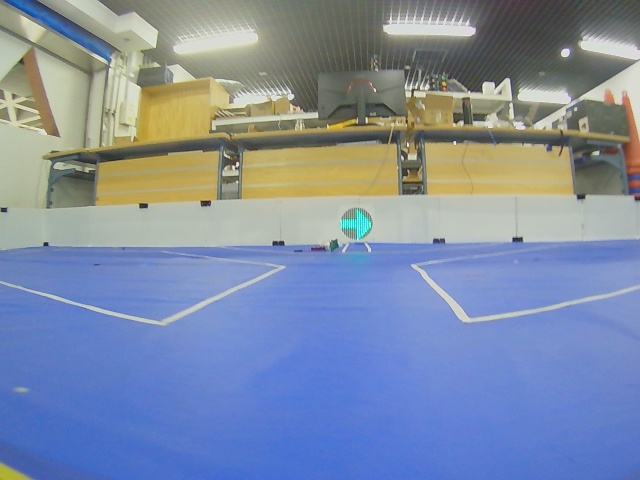right_green: (340, 208, 372, 240)
